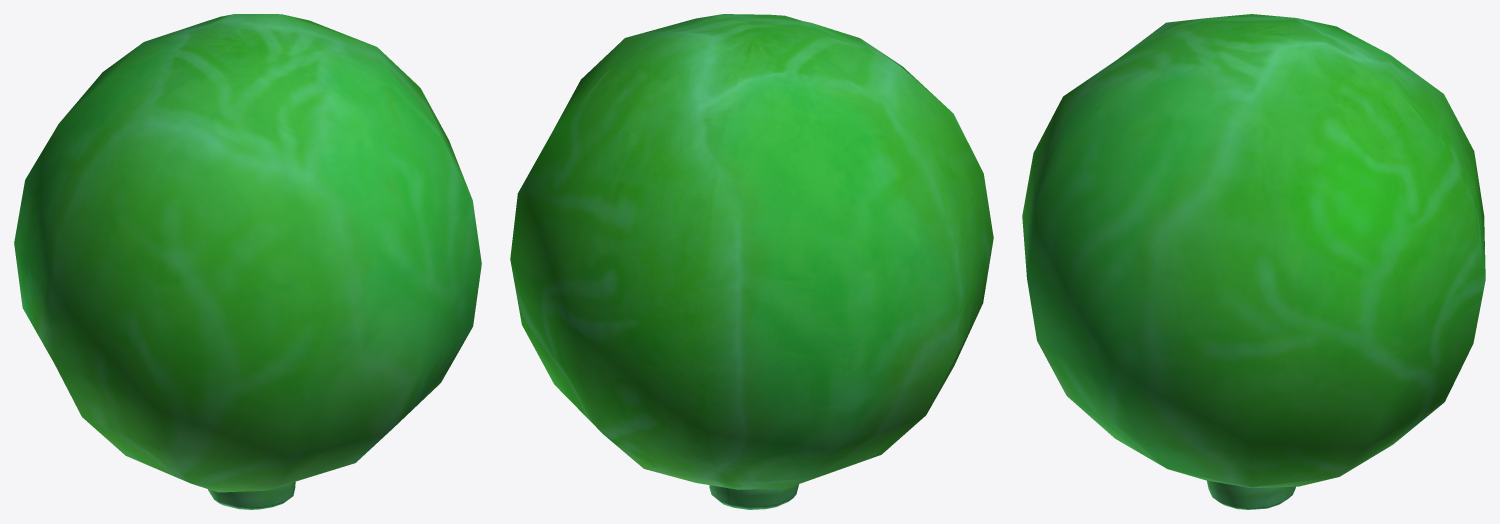
File: Cabbage.fbx
3 renders of one model, left to right at view 1: azimuth 30°, elevation 25°; view 2: azimuth 150°, elevation 25°; view 3: azimuth 270°, elevation 25°, orthographic.
Parts seen in each view (by area): view 1: Cabbage; view 2: Cabbage; view 3: Cabbage.
Part boxes in pixels (box(x1,y1,x2,y2)): Cabbage: box(14, 14, 481, 509); Cabbage: box(510, 14, 993, 509); Cabbage: box(1022, 14, 1485, 509).
Bounding box in the file's own units: 3.11 × 3.26 × 2.98.
